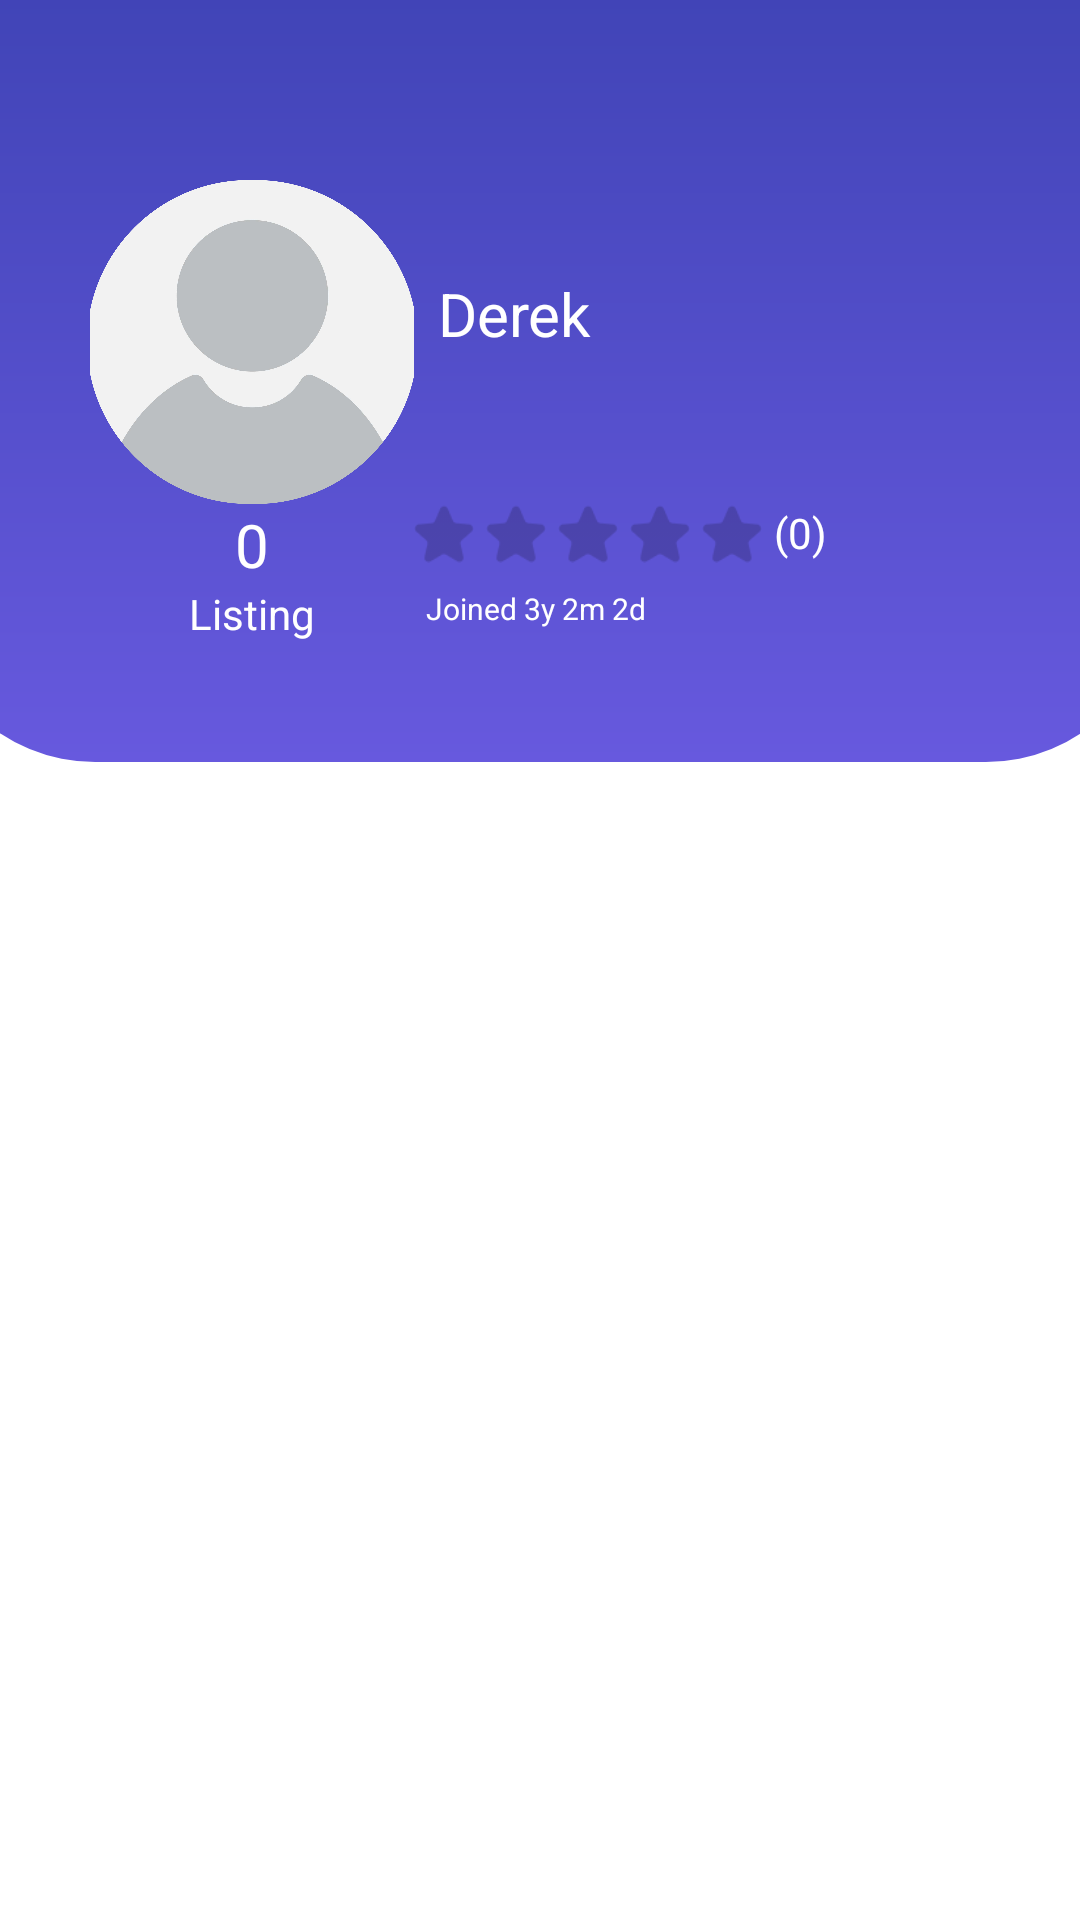

Named icons in this screenshot (1080 × 1920) and their centers, [x,y]:
profile star empty: [444,534], [516,534], [588,534], [660,534], [732,534]
unknown person: [252,342]
